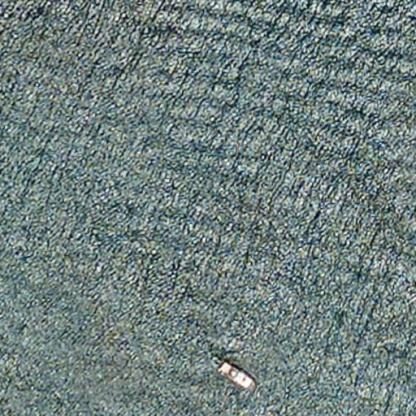ship: (212, 358, 255, 395)
